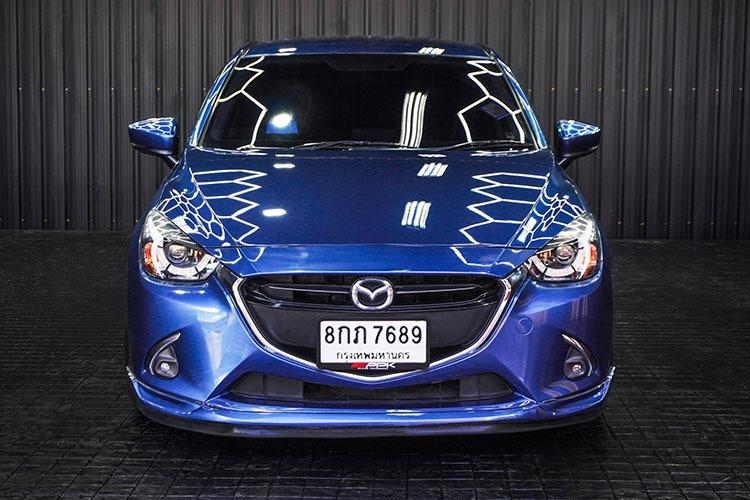license-plate: (314, 312, 432, 371)
